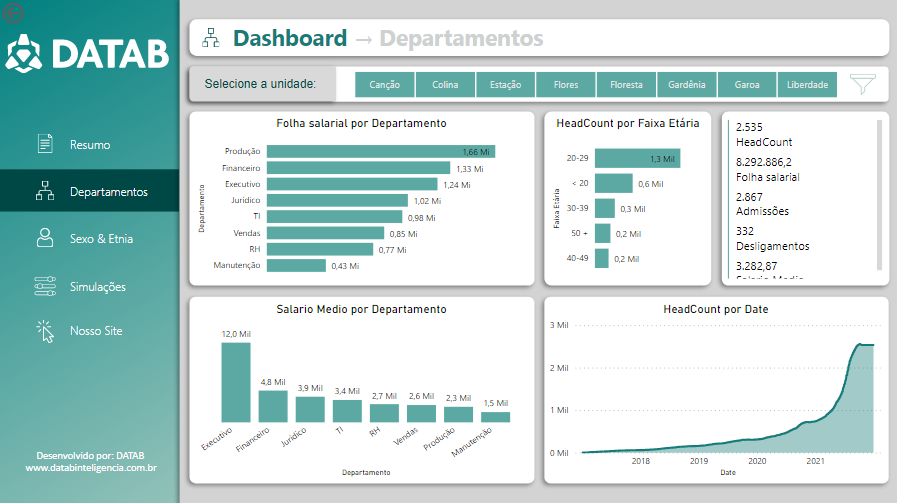

The page's visual inventory and layout, read from the dashboard file:
{"tool":"powerbi","page":{"name":"Departamentos","canvas":[1280,720],"ordinal":1},"visuals":[{"type":"actionButton","box":[0,176.1,252.8,56.8],"z":0},{"type":"actionButton","box":[0,241.8,252.8,56.8],"z":1000},{"type":"actionButton","box":[0,307.5,252.8,56.8],"z":2000},{"type":"actionButton","box":[0,373.1,252.8,56.8],"z":3000},{"type":"actionButton","box":[0,438.8,252.8,56.8],"z":4000},{"type":"textbox","box":[326.6,27,933,55.4],"z":5000},{"type":"slicer","fields":{"Values":["RH.Unidade"]},"box":[480,96.6,734.2,49.7],"z":5001},{"type":"clusteredBarChart","fields":{"Y":["Medidas.Folha salarial"],"Category":["RH.Departamento"]},"box":[276.9,166.2,475.7,235.7],"z":5002},{"type":"clusteredBarChart","fields":{"Y":["Medidas.HeadCount"],"Category":["RH.Faixa Etária"]},"box":[781.1,166.2,224.4,235.7],"z":5003},{"type":"multiRowCard","fields":{"Values":["Medidas.HeadCount","Medidas.Folha salarial","Medidas.Admissões","Medidas.Desligamentos","Medidas.Salario Medio"]},"box":[1029.6,166.2,230.1,235.7],"z":5004},{"type":"actionButton","box":[0,0,100,40],"z":5005},{"type":"clusteredColumnChart","fields":{"Category":["RH.Departamento"],"Y":["Medidas.Salario Medio"]},"box":[276.9,430.3,475.7,252.8],"z":5006},{"type":"areaChart","fields":{"Y":["Medidas.HeadCount"],"Category":["Calendario.Date"]},"box":[776.8,430.3,482.8,252.8],"z":5007}]}

Visuals, with their boxes on the page's 1280x720 design canvas (x1, y1, x2, y2). These are canvas units, not pixel positions in the 897x503 screenshot, which may show the page scaled, cropped or inside an application window:
actionButton: box=[0, 176, 253, 233]
actionButton: box=[0, 242, 253, 299]
actionButton: box=[0, 308, 253, 364]
actionButton: box=[0, 373, 253, 430]
actionButton: box=[0, 439, 253, 496]
textbox: box=[327, 27, 1260, 82]
slicer - RH.Unidade: box=[480, 97, 1214, 146]
clusteredBarChart - Medidas.Folha salarial x RH.Departamento: box=[277, 166, 753, 402]
clusteredBarChart - Medidas.HeadCount x RH.Faixa Etária: box=[781, 166, 1006, 402]
multiRowCard - Medidas.HeadCount x Medidas.Folha salarial: box=[1030, 166, 1260, 402]
actionButton: box=[0, 0, 100, 40]
clusteredColumnChart - RH.Departamento x Medidas.Salario Medio: box=[277, 430, 753, 683]
areaChart - Medidas.HeadCount x Calendario.Date: box=[777, 430, 1260, 683]
